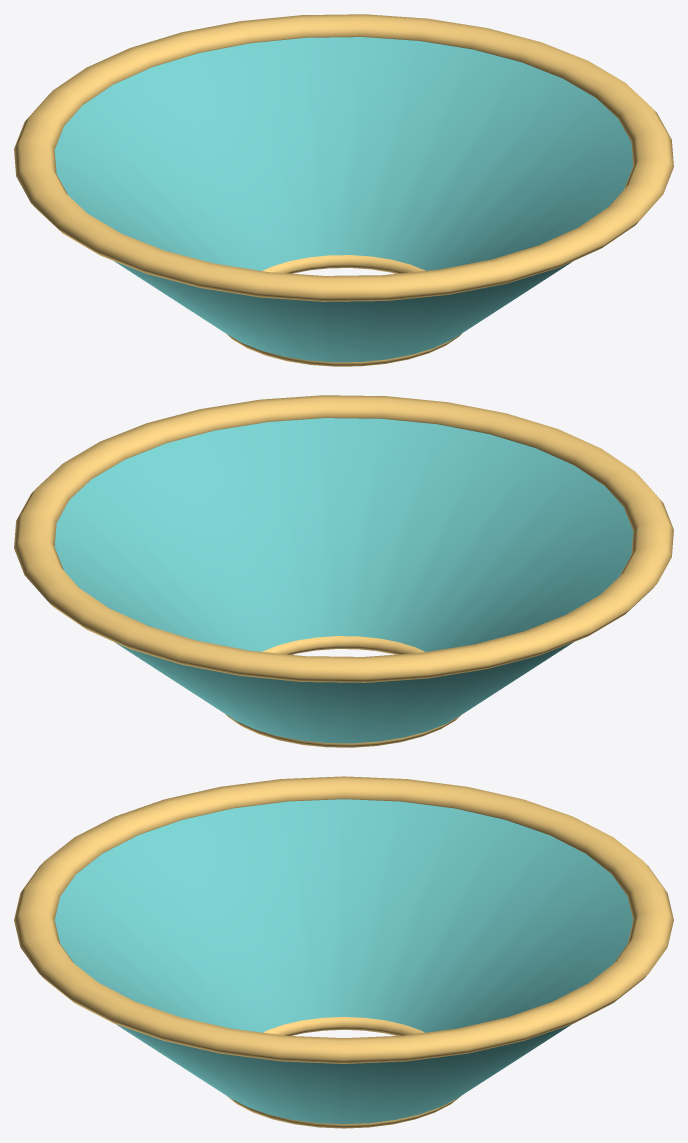
File: Funnel.glb
3 views of the same model, one above another, from view 1: azimuth 30°, elevation 25°; view 2: azimuth 150°, elevation 25°; view 3: azimuth 270°, elevation 25° (orthographic).
Visible parts, largest first — view 1: Funnel_Body, Funnel_Top_Rim, Funnel_Throat_Rim; view 2: Funnel_Body, Funnel_Top_Rim, Funnel_Throat_Rim; view 3: Funnel_Body, Funnel_Top_Rim, Funnel_Throat_Rim.
Part boxes in pixels (x1,y1,x2,y2): Funnel_Body: (54,37,633,362); Funnel_Top_Rim: (14,14,673,301); Funnel_Throat_Rim: (227,255,461,366); Funnel_Body: (54,418,633,743); Funnel_Top_Rim: (14,395,673,682); Funnel_Throat_Rim: (226,636,460,747); Funnel_Body: (54,799,633,1124); Funnel_Top_Rim: (14,776,673,1063); Funnel_Throat_Rim: (226,1017,461,1128).
Bounding box in the file's own units: 3.89 × 1.08 × 3.89.
